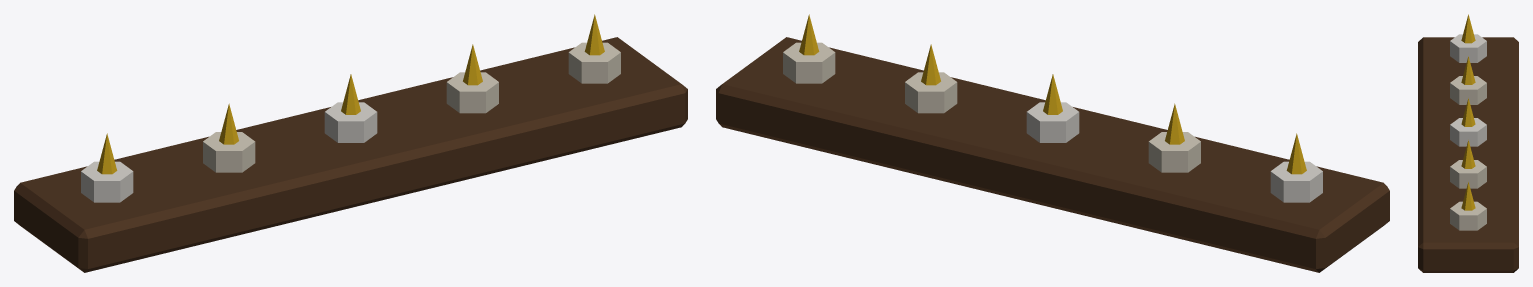
The model's file is candle-holder-38.glb.
3 views of the same model, side by side, from view 1: azimuth 30°, elevation 25°; view 2: azimuth 150°, elevation 25°; view 3: azimuth 270°, elevation 25° (orthographic). The views are drawn at different scales.
Visible parts, largest first — view 1: candle_holder_38; view 2: candle_holder_38; view 3: candle_holder_38.
Boxes of the visible parts, box(x1,y1,x2,y2) form: candle_holder_38: box(14, 14, 687, 272); candle_holder_38: box(716, 14, 1389, 272); candle_holder_38: box(1418, 14, 1518, 272).
Size of the model in its own units: 0.5908 by 0.0955 by 0.12.
